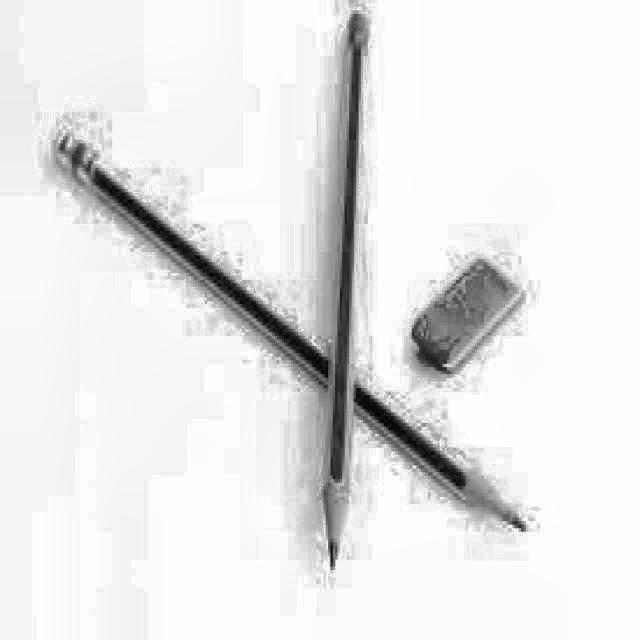eraser: (408, 255, 546, 390)
